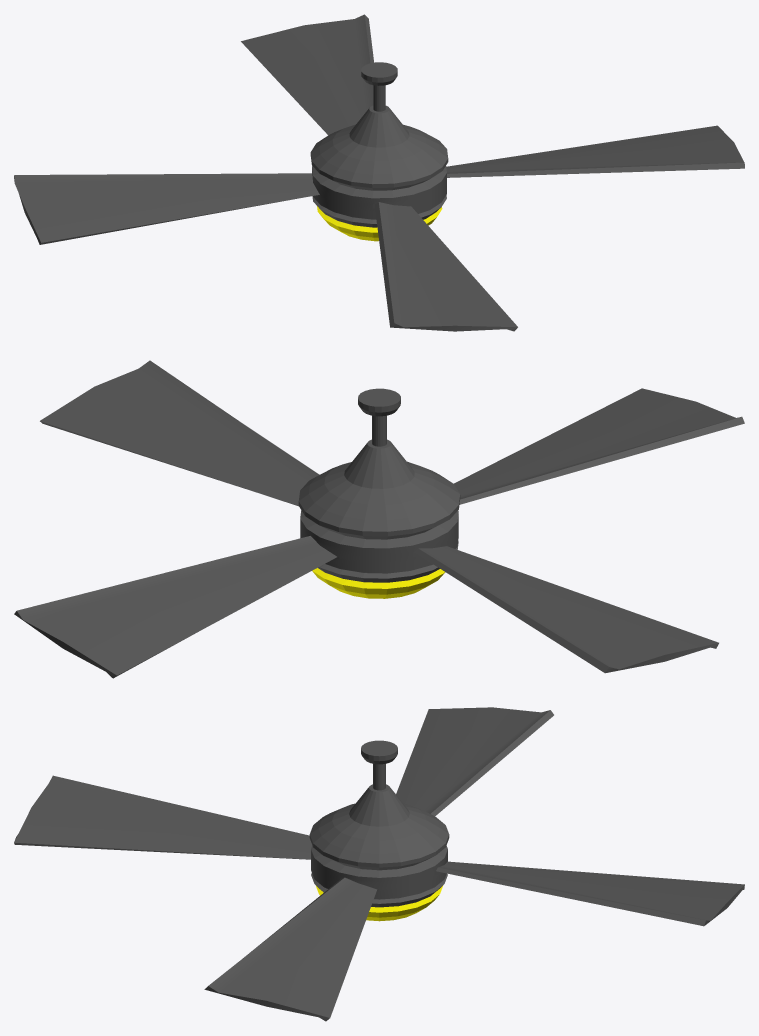
File: Ceiling_Fan.fbx
3 renders of one model, top to bottom at view 1: azimuth 30°, elevation 25°; view 2: azimuth 150°, elevation 25°; view 3: azimuth 270°, elevation 25°, orthographic. The views are drawn at different scales.
Parts seen in each view (by area): view 1: pCylinder1; view 2: pCylinder1; view 3: pCylinder1.
Part boxes in pixels (x1=…): pCylinder1: x1=14, y1=14, x2=744, y2=331; pCylinder1: x1=14, y1=360, x2=744, y2=678; pCylinder1: x1=14, y1=707, x2=744, y2=1021.
Bounding box in the file's own units: 134 × 33.53 × 134.
Materials: 1 (1 with a texture image).
